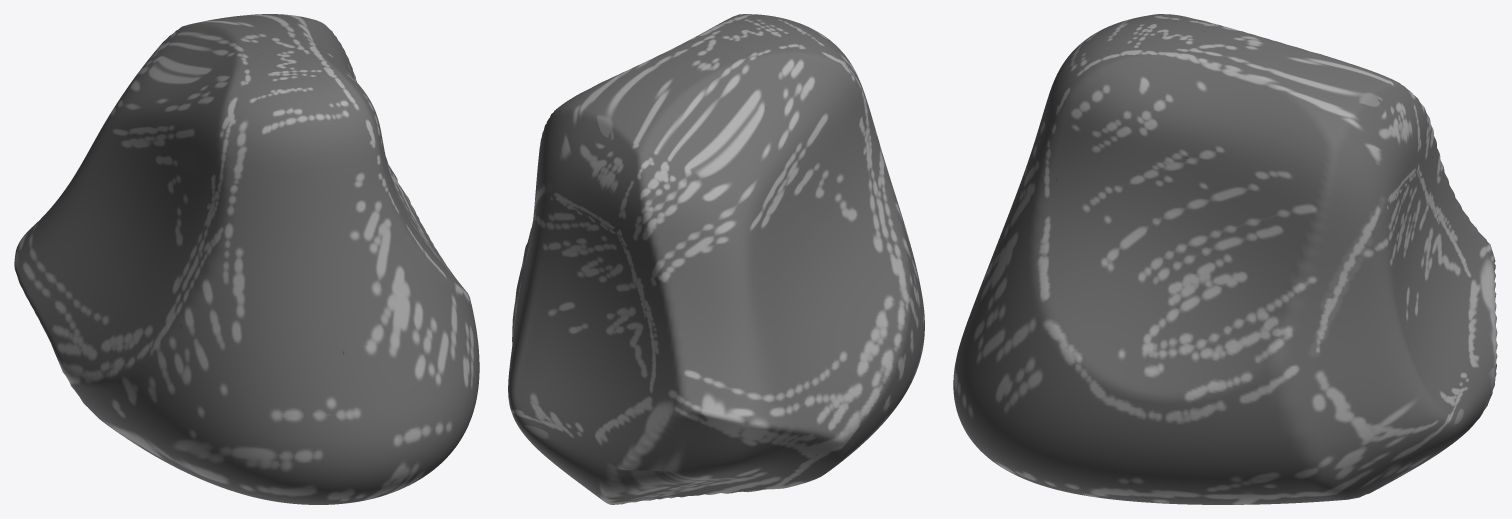
Rendered from Stone.fbx.
3 views of the same model, side by side, from view 1: azimuth 30°, elevation 25°; view 2: azimuth 150°, elevation 25°; view 3: azimuth 270°, elevation 25° (orthographic). The views are drawn at different scales.
Visible parts, largest first — view 1: Cube; view 2: Cube; view 3: Cube.
Boxes of the visible parts, bbox=[...] form: Cube: bbox=[14, 14, 479, 504]; Cube: bbox=[508, 14, 924, 504]; Cube: bbox=[953, 14, 1497, 504].
Bounding box in the file's own units: 164 × 188 × 213.
